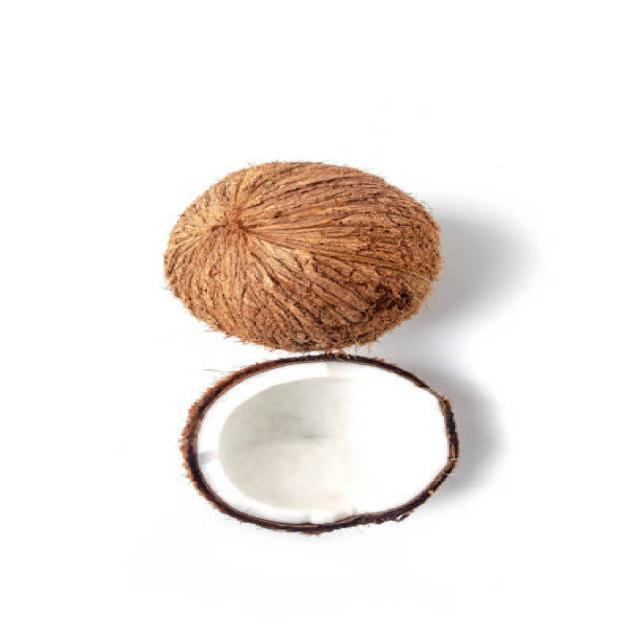coconut: (159, 156, 454, 351), (180, 354, 461, 538)
